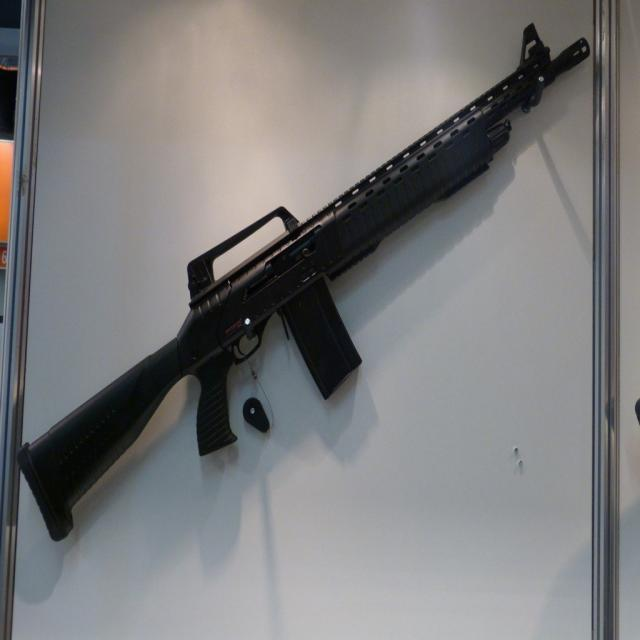firearm: (15, 11, 594, 549)
